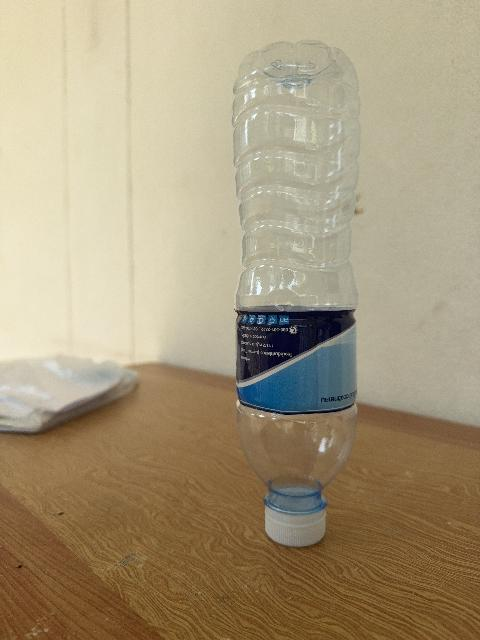bottle: (233, 42, 359, 546)
